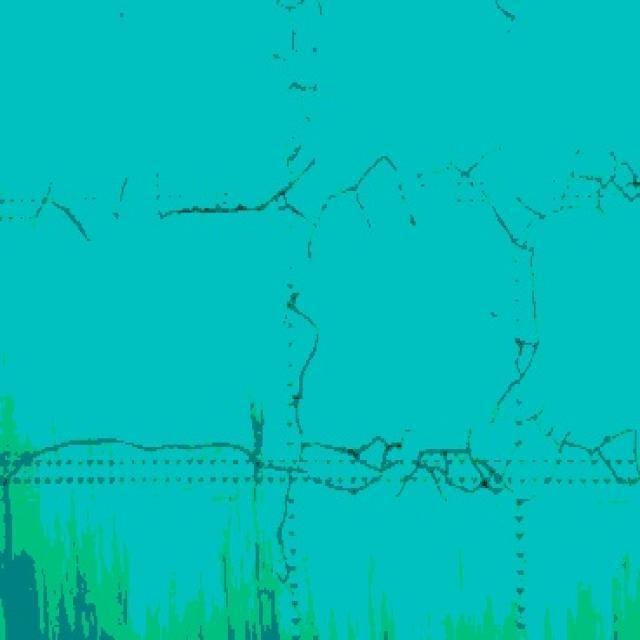crack: (10, 137, 640, 252), (5, 419, 640, 502), (258, 2, 333, 584), (489, 2, 519, 37)
